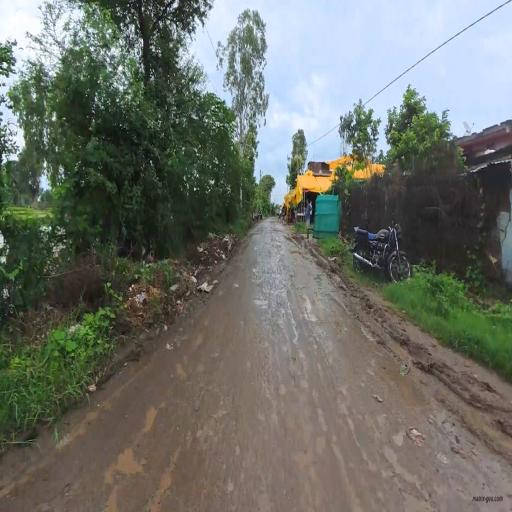ravelling: (78, 349, 454, 495)
